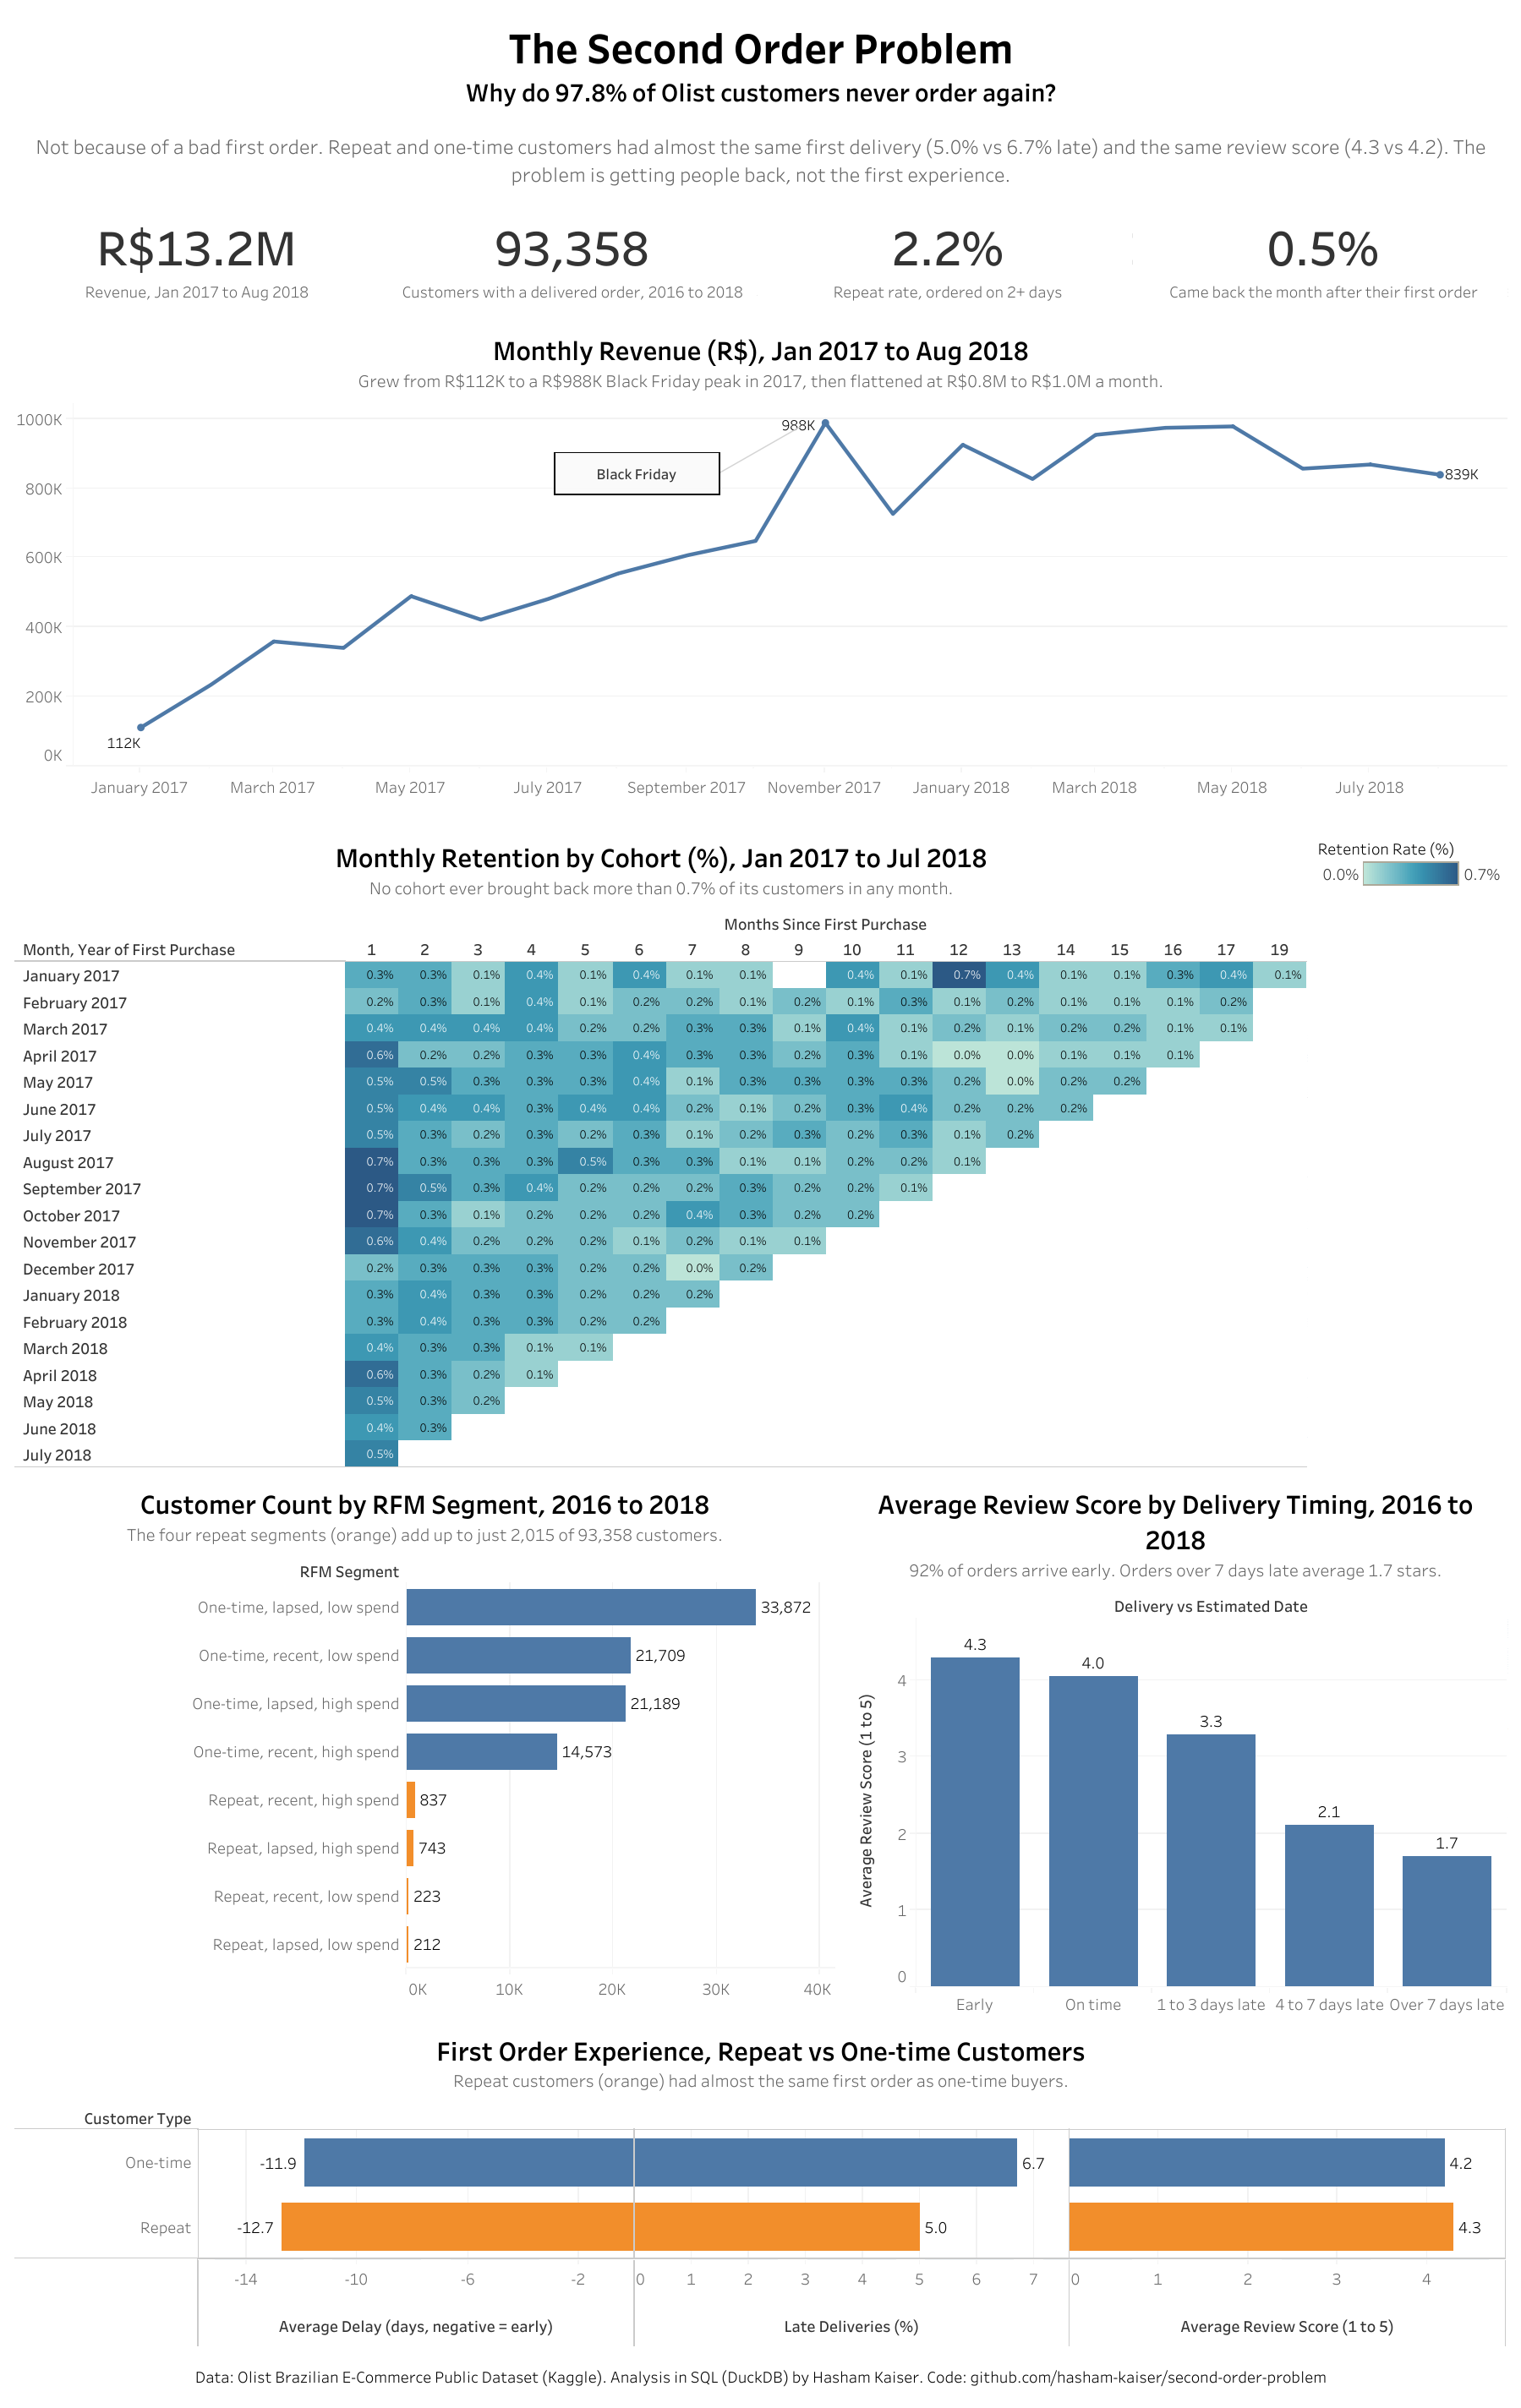

What the dashboard file says about the page in this screenshot:
{"tool":"powerbi","page":{"name":"Dashboard","canvas":[1280,850],"ordinal":0},"visuals":[{"type":"textbox","box":[24,16,800,48],"z":0},{"type":"cardVisual","fields":{"Data":["FactOrders.Total Revenue"]},"box":[24,100,296,100],"z":1000},{"type":"textbox","box":[24,60,800,28],"z":2000},{"type":"cardVisual","fields":{"Data":["FactOrders.Unique Customers Display"]},"box":[336,100,296,100],"z":3000},{"type":"cardVisual","fields":{"Data":["FactOrders.Repeat Rate"]},"box":[648,100,296,100],"z":4000},{"type":"cardVisual","fields":{"Data":["FactOrders.Late %"]},"box":[960,100,296,100],"z":5000},{"type":"lineChart","title":"Monthly revenue, Jan 2017 to Aug 2018","fields":{"Category":["DimDate.MonthName"],"Y":["FactOrders.Total Revenue"]},"box":[24,216,706,296],"z":6000},{"type":"clusteredBarChart","title":"Top 10 categories by revenue","fields":{"Category":["DimProduct.category"],"Y":["FactOrders.Total Revenue"]},"box":[746,216,510,296],"z":7000},{"type":"clusteredColumnChart","title":"Average review by delivery timing","fields":{"Category":["FactOrders.delay_bucket"],"Y":["FactOrders.Avg Review"]},"box":[24,530,706,296],"z":8000},{"type":"tableEx","title":"First order: buyers who came back vs those who didn’t","fields":{"Values":["FactOrders.customer_type","FactOrders.Avg Delay Days","FactOrders.Late %","FactOrders.Avg Review"]},"box":[746,530,510,296],"z":9000},{"type":"textbox","box":[768,692,452,64],"z":10000},{"type":"slicer","fields":{"Values":["DimCustomer.state"]},"box":[844,16,200,64],"z":11000},{"type":"slicer","fields":{"Values":["DimDate.Year"]},"box":[1056,16,200,64],"z":12000}]}

Visuals, with their boxes on the page's 1280x850 design canvas (x1, y1, x2, y2). These are canvas units, not pixel positions in the 1521x2408 screenshot, which may show the page scaled, cropped or inside an application window:
textbox: 24, 16, 824, 64
cardVisual - FactOrders.Total Revenue: 24, 100, 320, 200
textbox: 24, 60, 824, 88
cardVisual - FactOrders.Unique Customers Display: 336, 100, 632, 200
cardVisual - FactOrders.Repeat Rate: 648, 100, 944, 200
cardVisual - FactOrders.Late %: 960, 100, 1256, 200
"Monthly revenue, Jan 2017 to Aug 2018" lineChart: 24, 216, 730, 512
"Top 10 categories by revenue" clusteredBarChart: 746, 216, 1256, 512
"Average review by delivery timing" clusteredColumnChart: 24, 530, 730, 826
"First order: buyers who came back vs those who didn’t" tableEx: 746, 530, 1256, 826
textbox: 768, 692, 1220, 756
slicer - DimCustomer.state: 844, 16, 1044, 80
slicer - DimDate.Year: 1056, 16, 1256, 80
